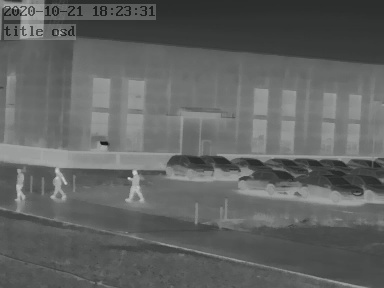person: (128, 169, 143, 202), (12, 167, 26, 200), (52, 166, 65, 200)
vehicle: (303, 172, 362, 203), (239, 168, 304, 192), (164, 153, 211, 179), (350, 173, 384, 204), (204, 153, 243, 177), (261, 155, 301, 172), (233, 155, 270, 171), (346, 156, 377, 170), (317, 156, 346, 169), (297, 156, 324, 169)
